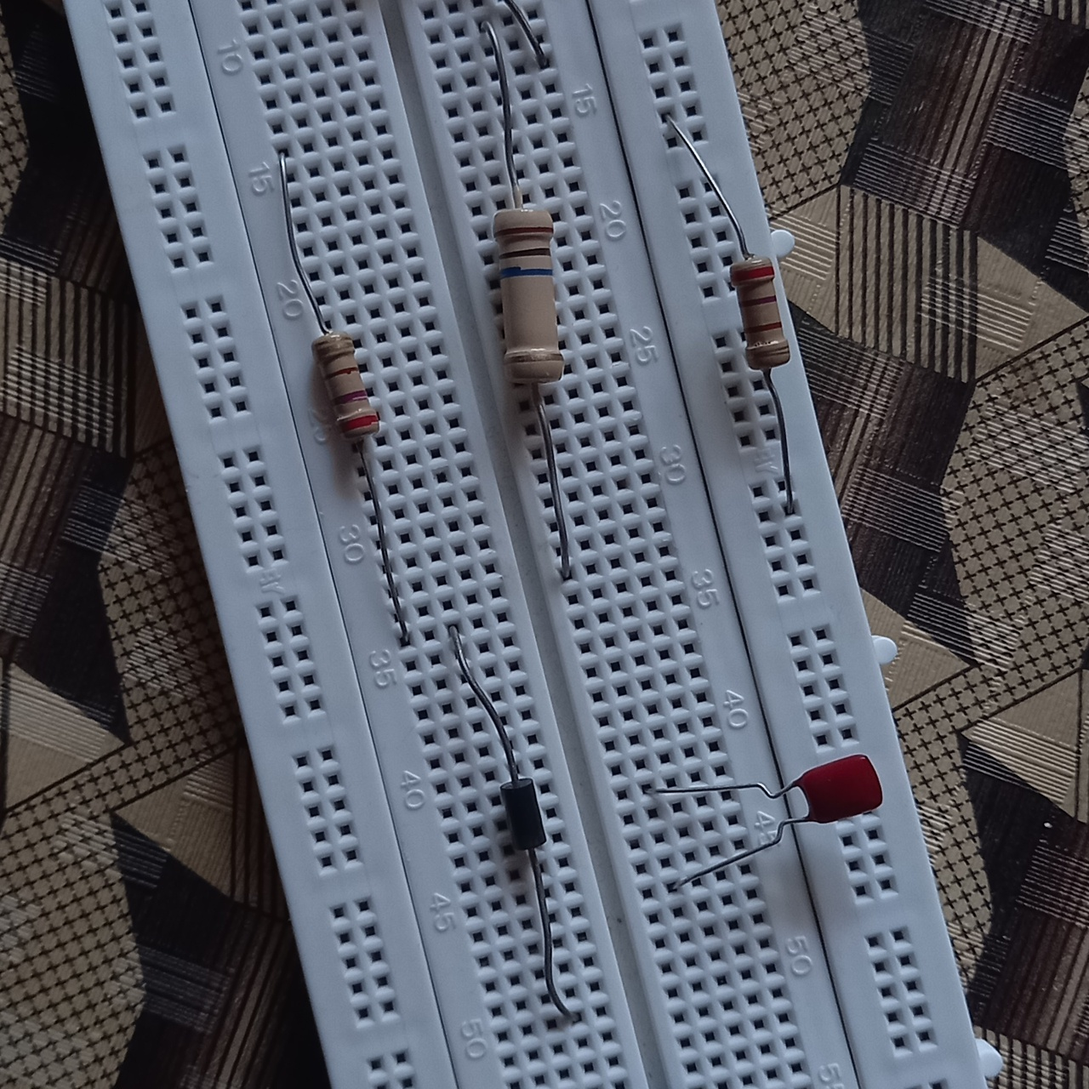capacitor: (794, 753, 885, 825)
resistor: (486, 206, 577, 385), (726, 250, 795, 371), (312, 329, 384, 440)
